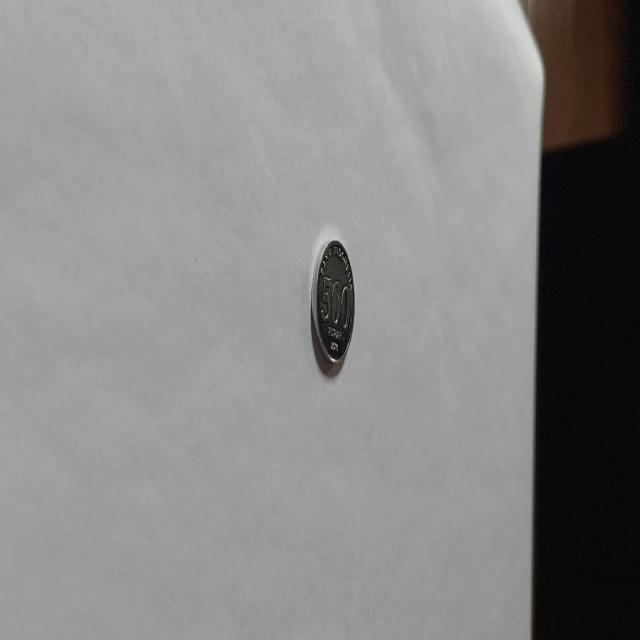lima ratus rupiah: (310, 237, 356, 375)
